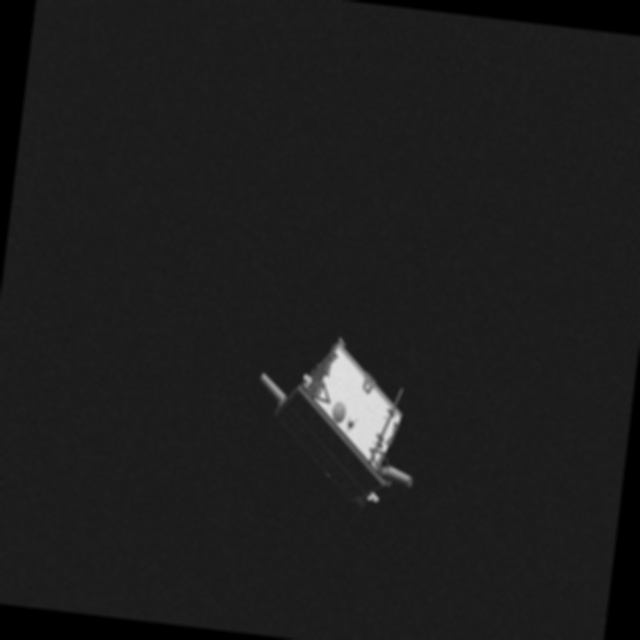satellite: (230, 330, 429, 520)
